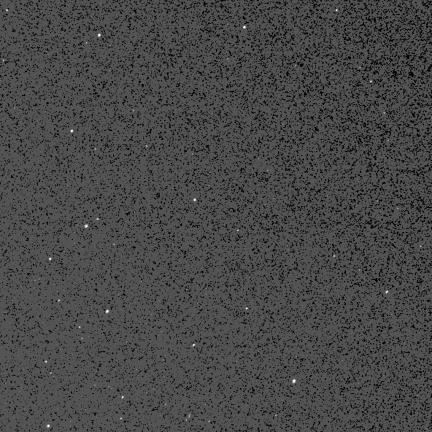blob: (85, 225, 89, 229), (98, 34, 101, 38), (47, 424, 50, 428), (370, 81, 373, 84), (194, 199, 197, 202), (49, 258, 52, 261), (71, 130, 74, 133), (106, 310, 109, 313), (333, 255, 336, 258), (386, 291, 389, 294), (246, 308, 249, 311), (243, 26, 246, 29), (293, 379, 295, 383), (122, 397, 125, 399)
